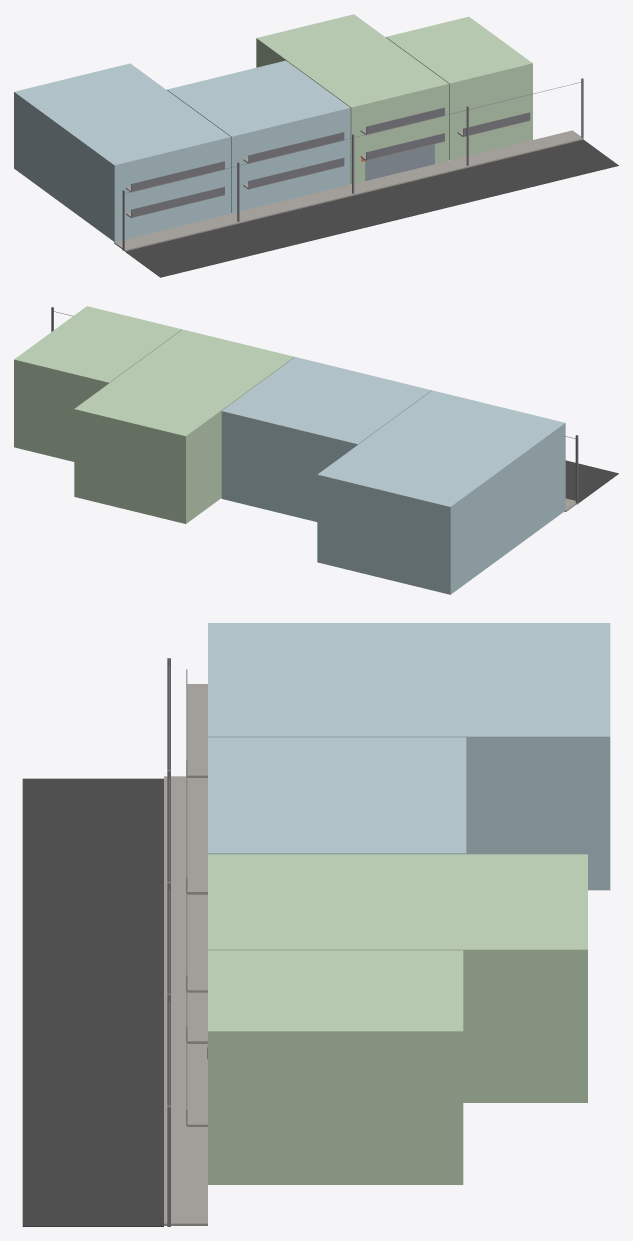
Rendered from Block_Chawl_01.fbx.
The picture shows the model from 3 angles, top to bottom: view 1: azimuth 30°, elevation 25°; view 2: azimuth 150°, elevation 25°; view 3: azimuth 270°, elevation 25°; orthographic projection. The views are drawn at different scales.
Visible parts, largest first — view 1: Building_00_LOD0, Road, Building_01_LOD0, Building_02_LOD0, Building_03_LOD0, Sidewalk, Building_02_Shutter, Building_01_Railing_1, Building_00_Railing_1, Building_01_Railing_2, Building_00_Railing_2, Building_02_Railing_1 (+2 smaller); view 2: Building_00_LOD0, Building_02_LOD0, Building_01_LOD0, Building_03_LOD0, Road; view 3: Building_00_LOD0, Road, Building_03_LOD0, Building_02_LOD0, Building_01_LOD0, Sidewalk, Building_01_Balcony_2, Building_00_Balcony_2, Building_02_Balcony_2, Building_03_Balcony_1, Building_02_Balcony_1.
Part boxes in pixels (box(x1,y1,x2,y2)): Building_00_LOD0: box(14, 63, 230, 241); Road: box(125, 139, 618, 277); Building_01_LOD0: box(167, 60, 350, 213); Building_02_LOD0: box(256, 14, 448, 184); Building_03_LOD0: box(386, 16, 532, 160); Sidewalk: box(114, 130, 583, 251); Building_02_Shutter: box(365, 144, 434, 180); Building_01_Railing_1: box(248, 157, 344, 188); Building_00_Railing_1: box(131, 186, 224, 217); Building_01_Railing_2: box(248, 132, 344, 162); Building_00_Railing_2: box(131, 161, 224, 191); Building_02_Railing_1: box(366, 133, 444, 160); Building_00_LOD0: box(317, 390, 565, 594); Building_02_LOD0: box(74, 329, 294, 523); Building_01_LOD0: box(221, 357, 431, 521); Building_03_LOD0: box(14, 306, 181, 461); Road: box(565, 460, 618, 503); Building_00_LOD0: box(208, 623, 610, 890); Road: box(22, 778, 163, 1226); Building_03_LOD0: box(208, 950, 463, 1184); Building_02_LOD0: box(208, 854, 587, 1102); Building_01_LOD0: box(208, 737, 466, 854); Sidewalk: box(164, 776, 207, 1225); Building_01_Balcony_2: box(187, 798, 207, 894); Building_00_Balcony_2: box(187, 684, 207, 777); Building_02_Balcony_2: box(187, 913, 207, 992); Building_03_Balcony_1: box(187, 1059, 207, 1126); Building_02_Balcony_1: box(187, 992, 207, 1043).
Size of what is drawn, in the model's own units: 60.2 by 9.8 by 33.29.
